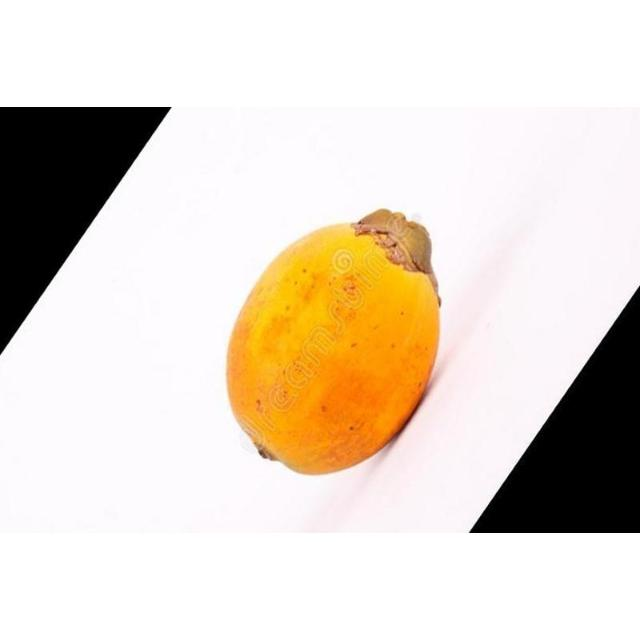good: (225, 210, 442, 477)
